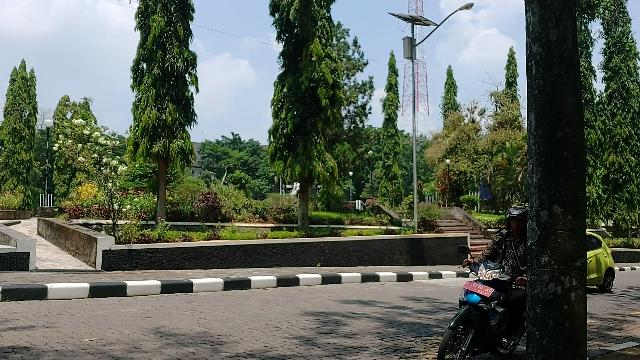helm: (504, 202, 529, 236)
motor: (437, 245, 527, 360)
